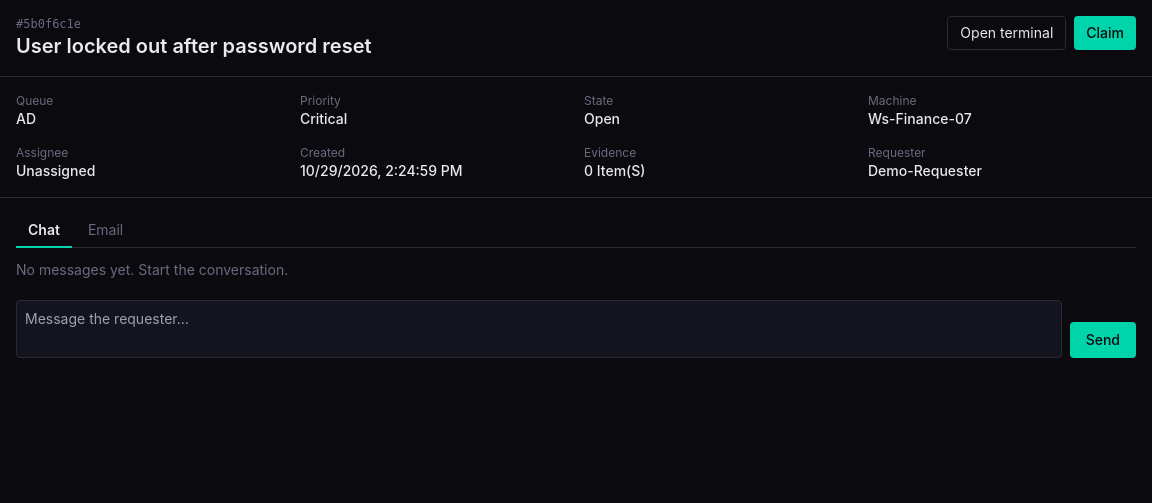
Test: TicketDetail communication tabs › switches between chat and email for the selected ticket
Click the tab "Email" at (106, 231), box [76,214,135,248]
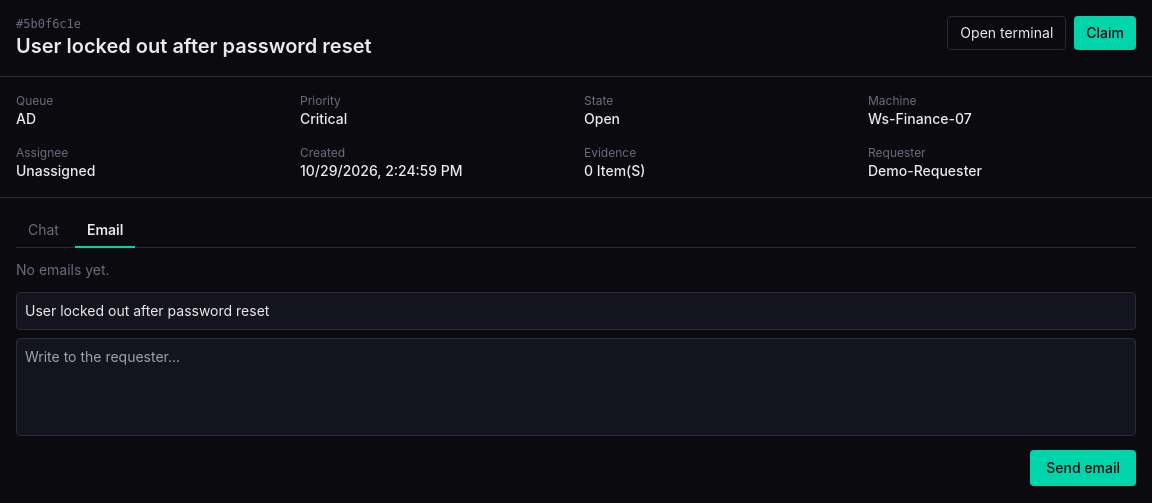
Expected: the field named "Email subject" is shown, [16,292,1136,330]
